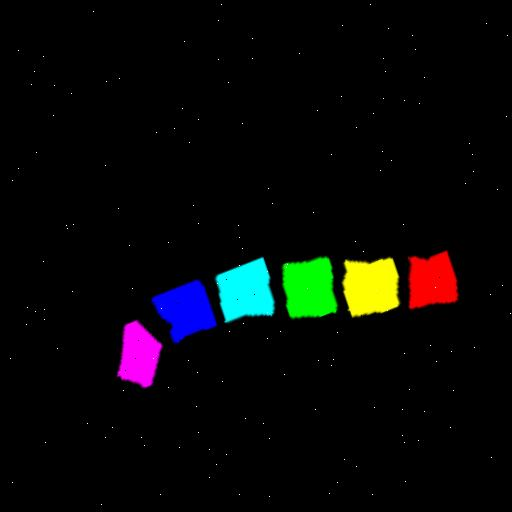L1: (408, 257, 457, 314)
L2: (346, 263, 399, 322)
L3: (284, 263, 336, 322)
L4: (216, 262, 273, 325)
L5: (153, 283, 217, 344)
S1: (119, 323, 161, 391)
